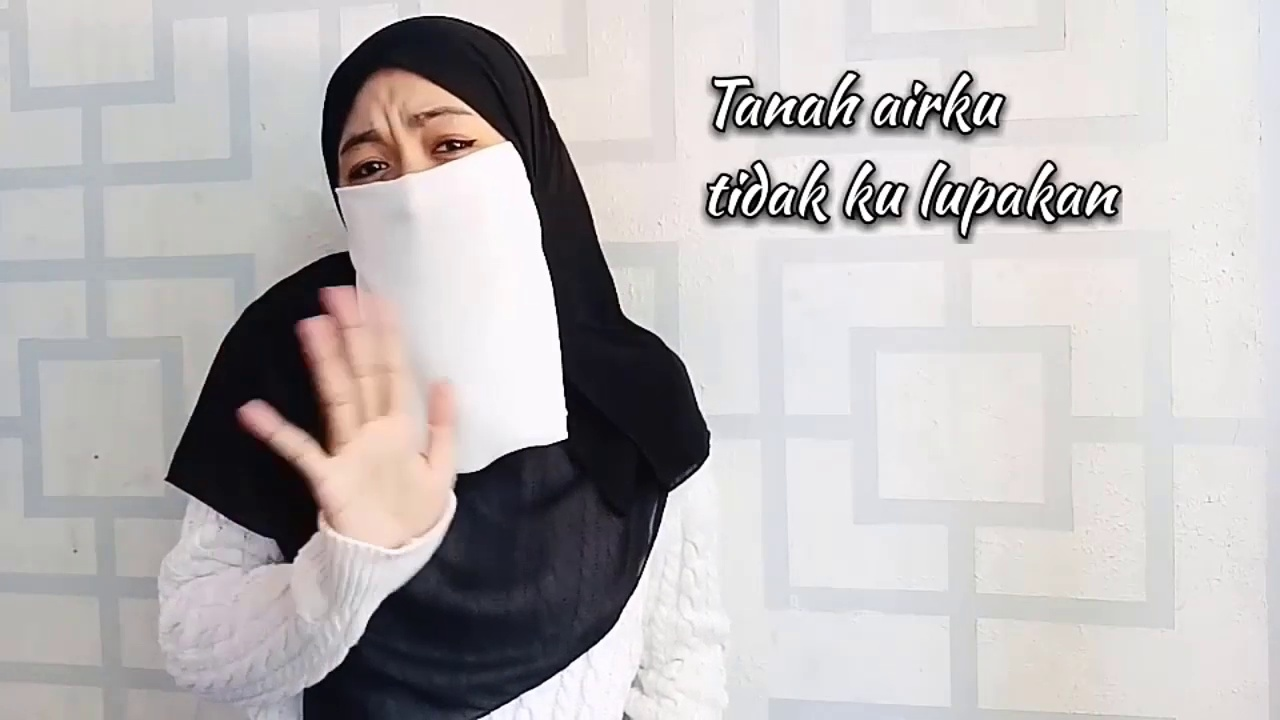TIDAK: (213, 18, 560, 658)
